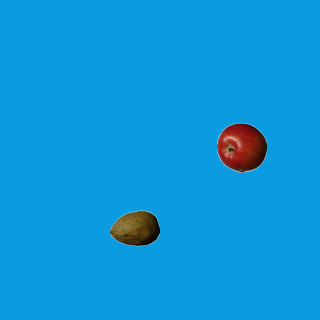Apple Braeburn: (216, 122, 266, 172)
Papaya: (109, 203, 159, 253)
